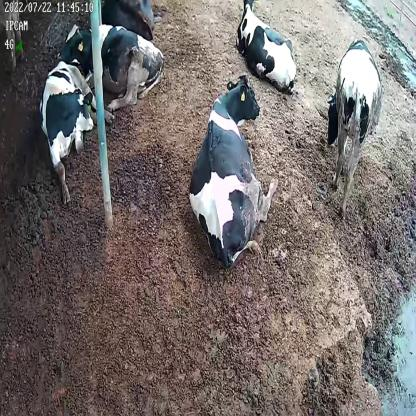cow: (186, 74, 280, 267), (38, 56, 113, 200), (56, 19, 164, 112), (325, 37, 382, 212), (236, 0, 297, 92)
